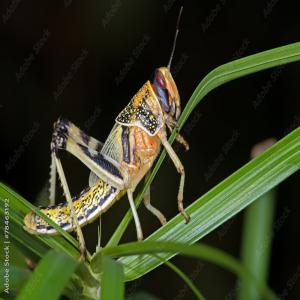locust: (38, 59, 187, 248)
